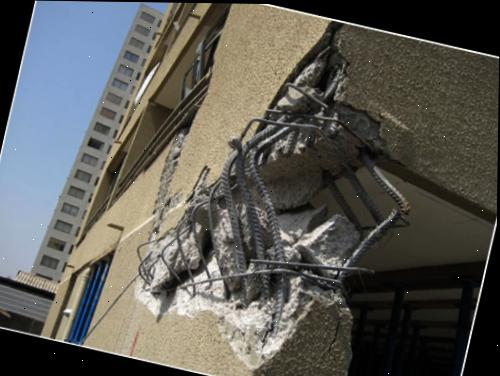exposed_rebar: (138, 119, 408, 335), (323, 171, 360, 230), (344, 170, 383, 223)
spalling: (134, 20, 410, 367)
